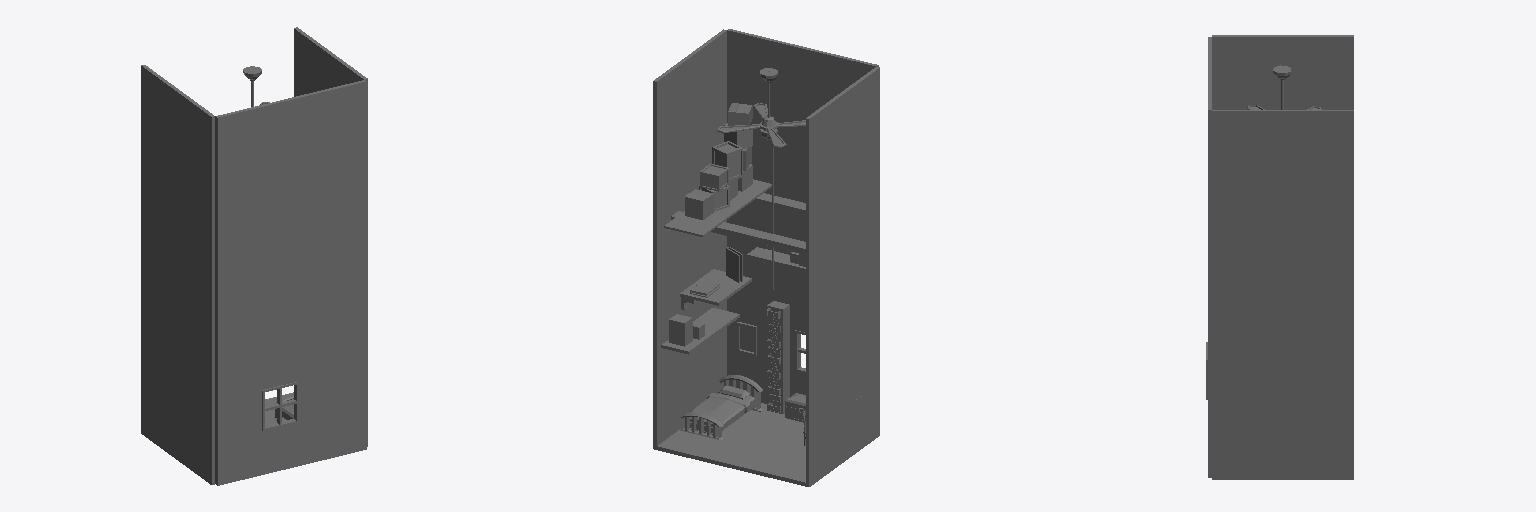
Rendered from negacionD.obj.
3 renders of one model, left to right at view 1: azimuth 30°, elevation 25°; view 2: azimuth 150°, elevation 25°; view 3: azimuth 270°, elevation 25°, orthographic.
Visible parts, largest first — view 1: negacion_D Base, negacion_D pCube1; view 2: negacion_D Base, negacion_D habitacion_1_distorsionada:Biga3, negacion_D Environment___3_:pCube9, negacion_D habitacion_1_distorsionada:Biga1, negacion_D pCube4, negacion_D Estanteria7, negacion_D habitacion_1_distorsionada:Estanteria7, negacion_D Caja_Madera1, negacion_D Environment___3_1:Caja_carton, negacion_D Environment___3_:pCylinder32, negacion_D Objeto_Subida_3, negacion_D Caja_Madera (+4 smaller); view 3: negacion_D Base.
Part boxes in pixels (bbox=[...]): negacion_D Base: bbox=[141, 27, 367, 485]; negacion_D pCube1: bbox=[262, 382, 298, 430]; negacion_D Base: bbox=[653, 29, 879, 486]; negacion_D habitacion_1_distorsionada:Biga3: bbox=[664, 179, 771, 236]; negacion_D Environment___3_:pCube9: bbox=[690, 393, 754, 428]; negacion_D habitacion_1_distorsionada:Biga1: bbox=[671, 211, 805, 254]; negacion_D pCube4: bbox=[767, 301, 789, 413]; negacion_D Estanteria7: bbox=[661, 308, 739, 354]; negacion_D habitacion_1_distorsionada:Estanteria7: bbox=[680, 269, 751, 305]; negacion_D Caja_Madera1: bbox=[712, 141, 742, 181]; negacion_D Environment___3_1:Caja_carton: bbox=[685, 189, 713, 219]; negacion_D Environment___3_:pCylinder32: bbox=[680, 413, 723, 439]; negacion_D Objeto_Subida_3: bbox=[669, 314, 692, 346]; negacion_D Caja_Madera: bbox=[700, 164, 728, 191]; negacion_D Base: bbox=[1208, 35, 1353, 479].
Bounding box in the file's own units: 56.5 × 128 × 46.